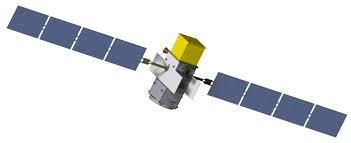body: (147, 33, 205, 112)
solar: (3, 3, 148, 72), (208, 70, 347, 137)
thruster: (161, 45, 170, 56)
